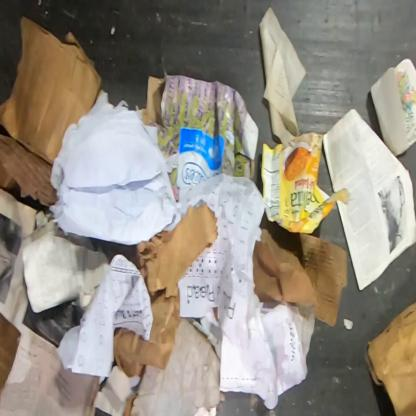cardboard: (0, 14, 104, 165), (140, 74, 260, 186), (260, 130, 352, 234), (253, 228, 348, 328), (128, 201, 218, 303), (362, 301, 415, 415), (368, 57, 415, 160), (0, 133, 59, 208), (0, 312, 22, 396)
